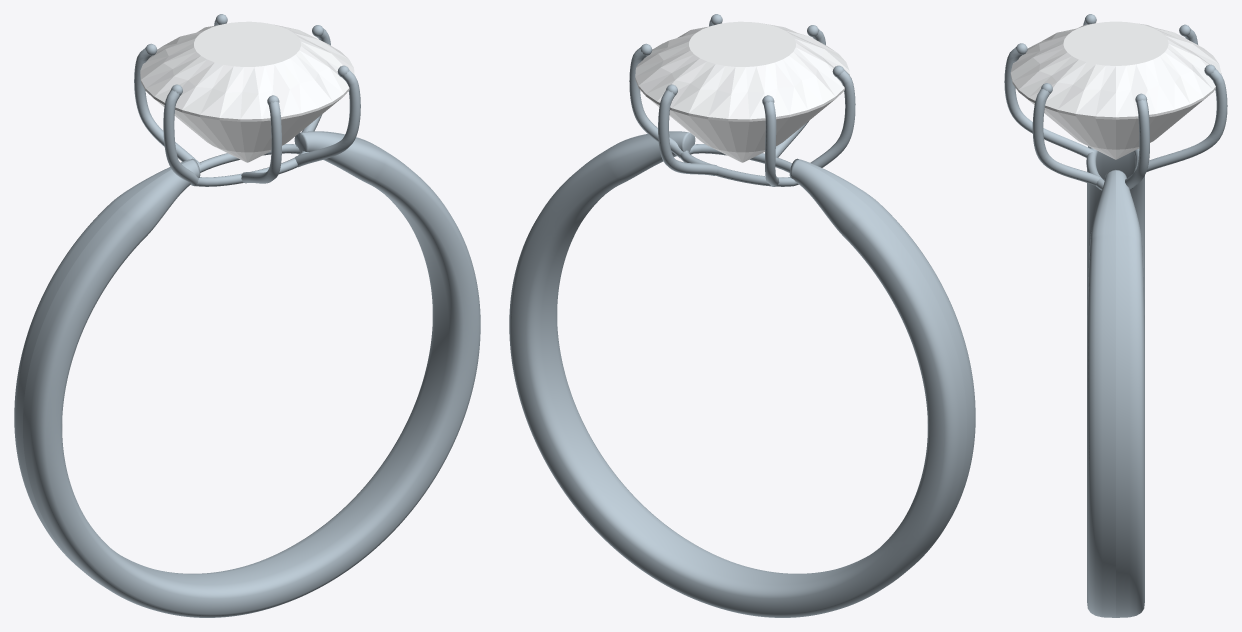
Rendered from solitaire-visual-v1-round.glb.
The picture shows the model from 3 angles, left to right: view 1: azimuth 30°, elevation 25°; view 2: azimuth 150°, elevation 25°; view 3: azimuth 270°, elevation 25°; orthographic projection. The views are drawn at different scales.
Visible parts, largest first — view 1: Band, CenterStone, Prong-1, BasketBridge, Prong-4, Prong-3, Prong-2; view 2: Band, CenterStone, BasketBridge, Prong-5, Prong-3, Prong-6, Prong-4; view 3: Band, CenterStone, Prong-5, Prong-1, Prong-2, Prong-6, BasketBridge.
Boxes of the visible parts, x1=… form: Band: x1=14, y1=131, x2=480, y2=617; CenterStone: x1=140, y1=21, x2=354, y2=162; Prong-1: x1=293, y1=70, x2=360, y2=167; BasketBridge: x1=196, y1=144, x2=308, y2=186; Prong-4: x1=134, y1=48, x2=201, y2=165; Prong-3: x1=163, y1=90, x2=198, y2=186; Prong-2: x1=241, y1=101, x2=281, y2=183; Band: x1=509, y1=131, x2=975, y2=617; CenterStone: x1=635, y1=21, x2=849, y2=162; BasketBridge: x1=679, y1=144, x2=798, y2=186; Prong-5: x1=658, y1=89, x2=717, y2=175; Prong-3: x1=810, y1=70, x2=855, y2=167; Prong-6: x1=629, y1=47, x2=687, y2=157; Prong-4: x1=763, y1=101, x2=779, y2=186; Band: x1=1087, y1=146, x2=1144, y2=617; CenterStone: x1=1010, y1=21, x2=1221, y2=159; Prong-5: x1=1137, y1=69, x2=1227, y2=171; Prong-1: x1=1032, y1=88, x2=1101, y2=185; Prong-2: x1=1004, y1=47, x2=1094, y2=157; Prong-6: x1=1125, y1=99, x2=1149, y2=189; BasketBridge: x1=1086, y1=147, x2=1139, y2=190.
Bounding box in the file's own units: 19.55 × 23.36 × 8.58.
